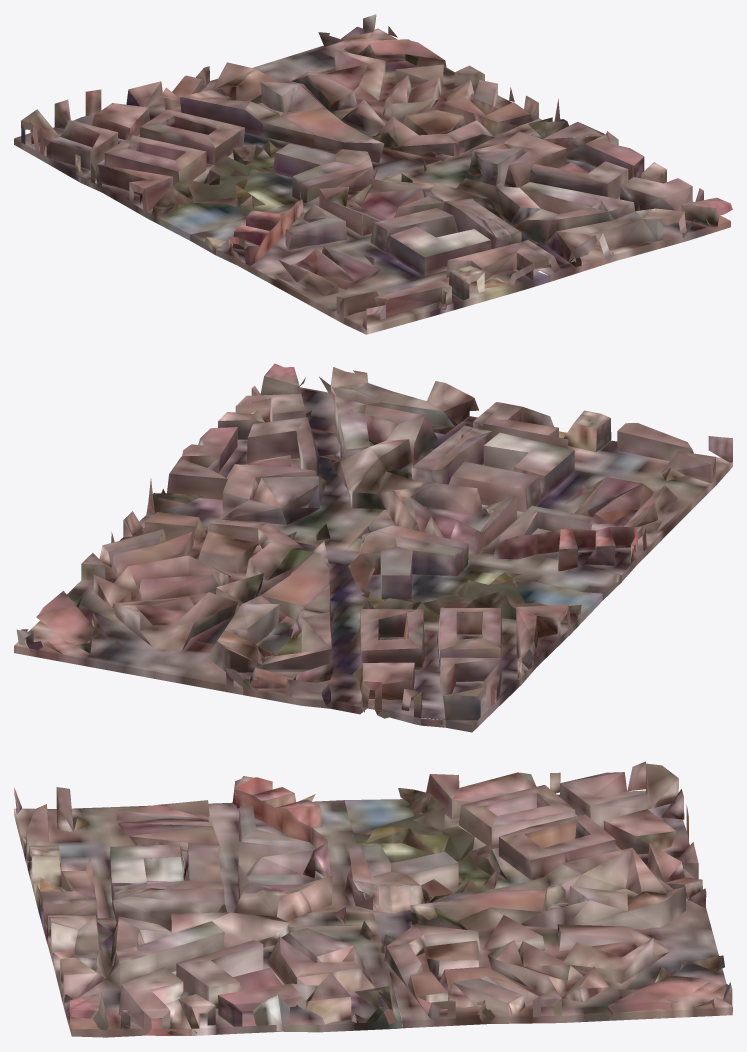
The picture shows the model from 3 angles, top to bottom: view 1: azimuth 30°, elevation 25°; view 2: azimuth 150°, elevation 25°; view 3: azimuth 270°, elevation 25°; orthographic projection. The views are drawn at different scales.
Parts seen in each view (by area): view 1: Mesh_0; view 2: Mesh_0; view 3: Mesh_0.
Boxes of the visible parts, left/top/right/bottom form: Mesh_0: left=14, top=14, right=732, bottom=334; Mesh_0: left=14, top=363, right=732, bottom=732; Mesh_0: left=14, top=761, right=732, bottom=1037.
Size of the model in its own units: 535 by 49.99 by 659.
2 materials, 2 textured.
